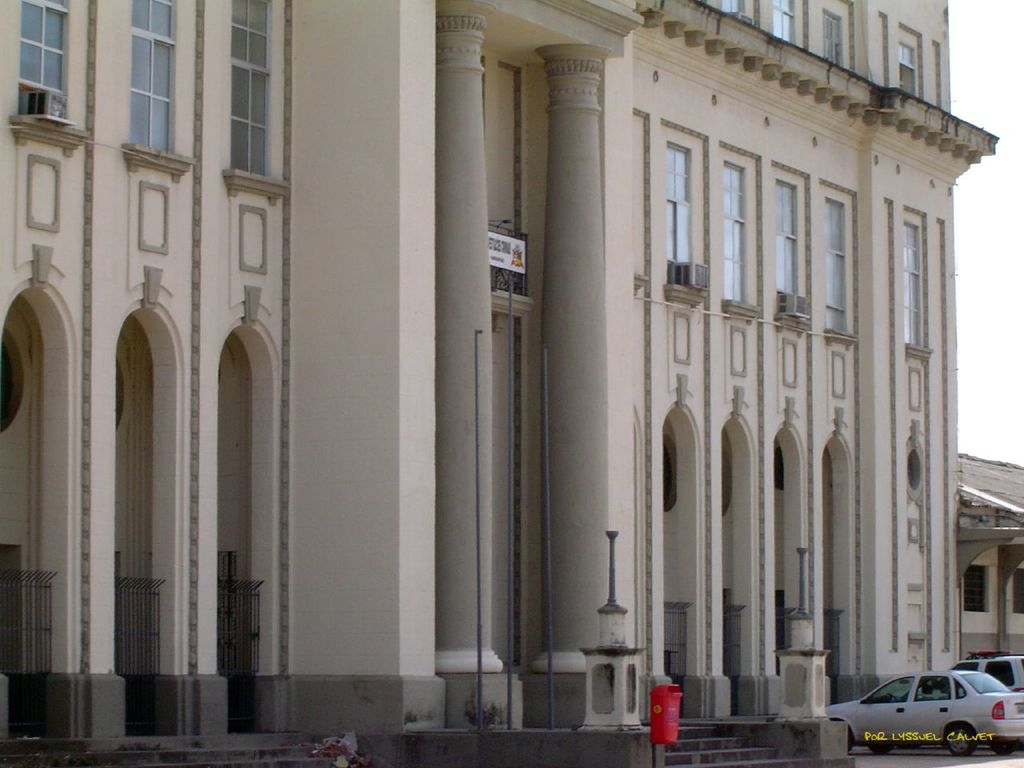Car: (822, 664, 1020, 755), (951, 654, 1023, 686)
